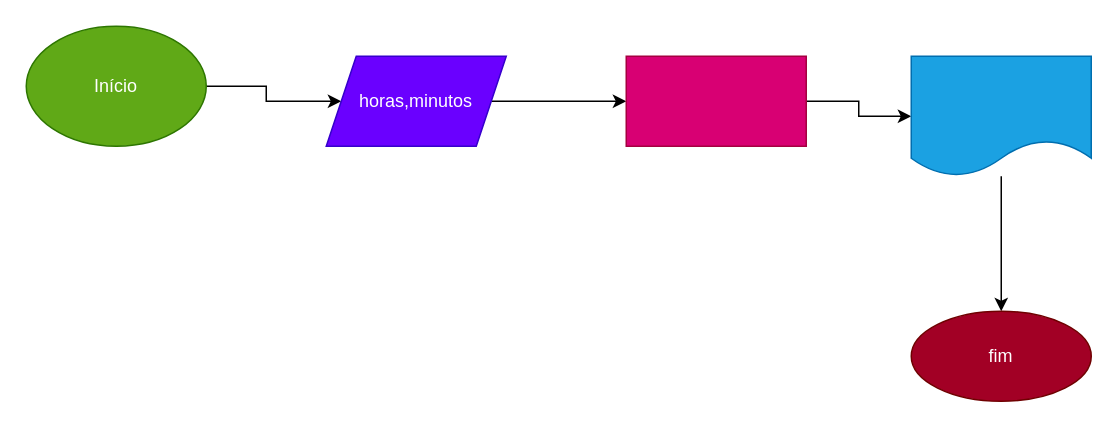
Some shapes in this 1118 by 428 pixel diagram are drawn without their labels. Here are the shapes that lost their labels. From the top down, the centre of each, then its label:
pixel 715 100: segundos<-(minutos/60)+horas
pixel 1000 115: Segundos
